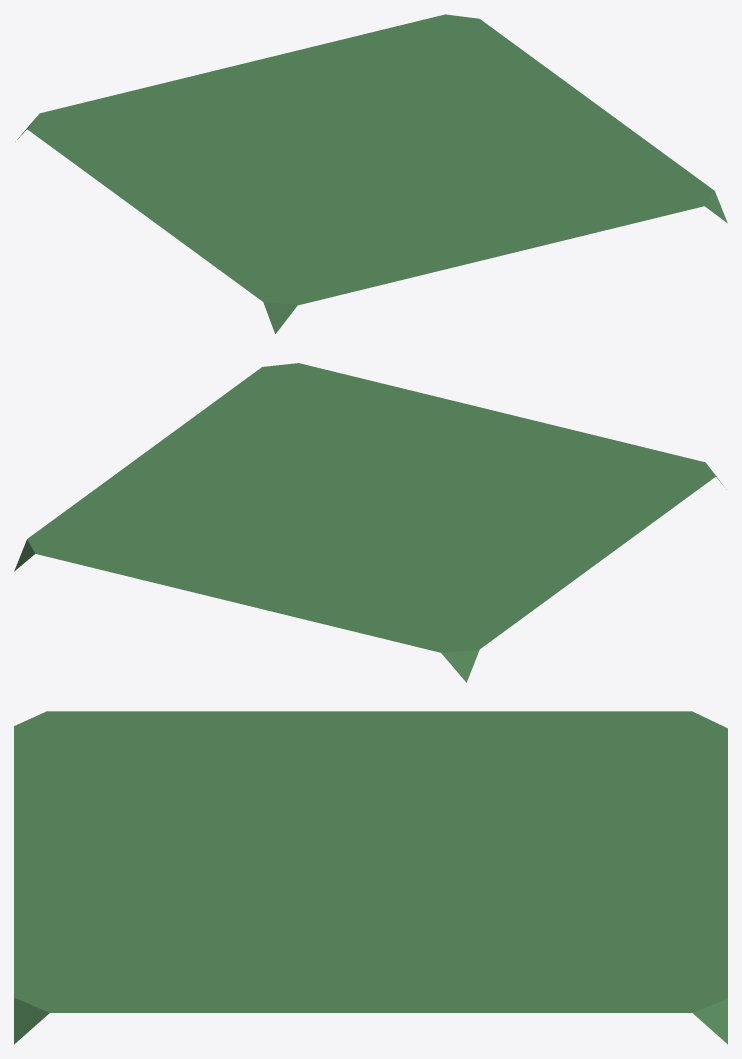
Rendered from Grass_Interior_Corner_4.fbx.
3 views of the same model, one above another, from view 1: azimuth 30°, elevation 25°; view 2: azimuth 150°, elevation 25°; view 3: azimuth 270°, elevation 25° (orthographic). The views are drawn at different scales.
Visible parts, largest first — view 1: Grass_4_Interior_Corner; view 2: Grass_4_Interior_Corner; view 3: Grass_4_Interior_Corner.
Part boxes in pixels (bbox=[...]): Grass_4_Interior_Corner: bbox=[15, 14, 727, 333]; Grass_4_Interior_Corner: bbox=[14, 363, 726, 682]; Grass_4_Interior_Corner: bbox=[14, 711, 727, 1044].
Bounding box in the file's own units: 100 × 5.03 × 100.
